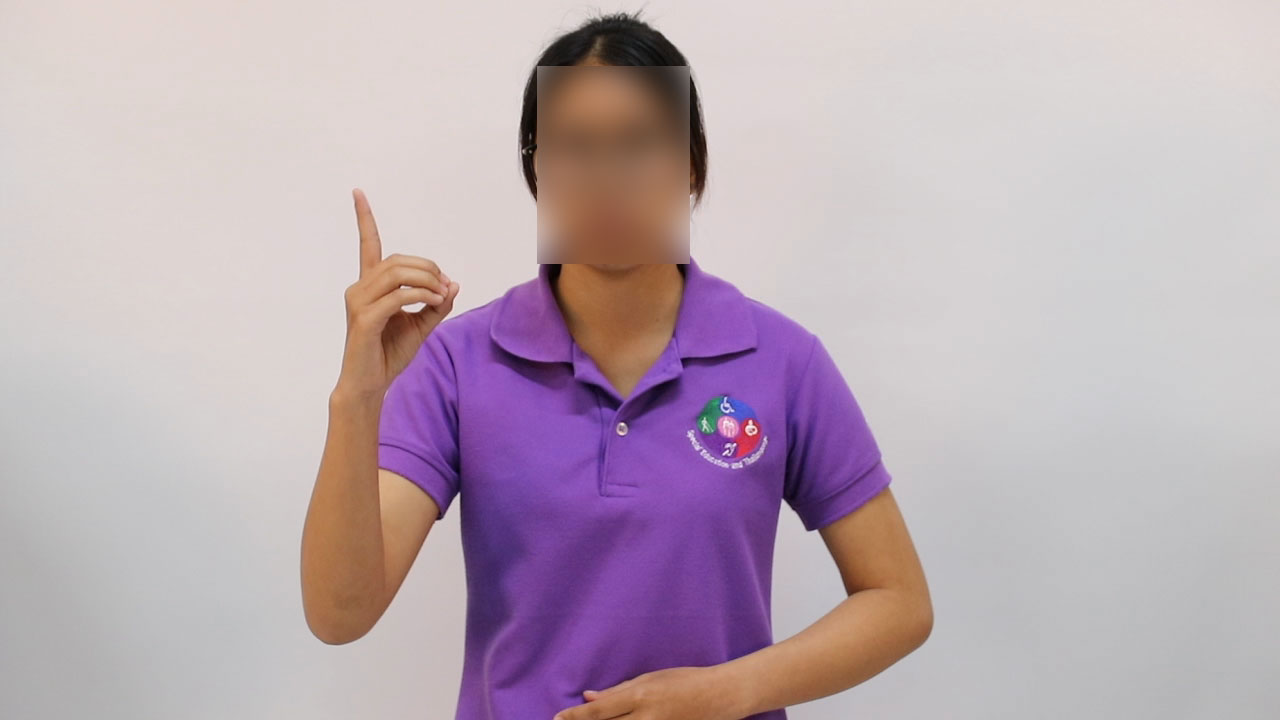dor: (328, 180, 468, 397)
